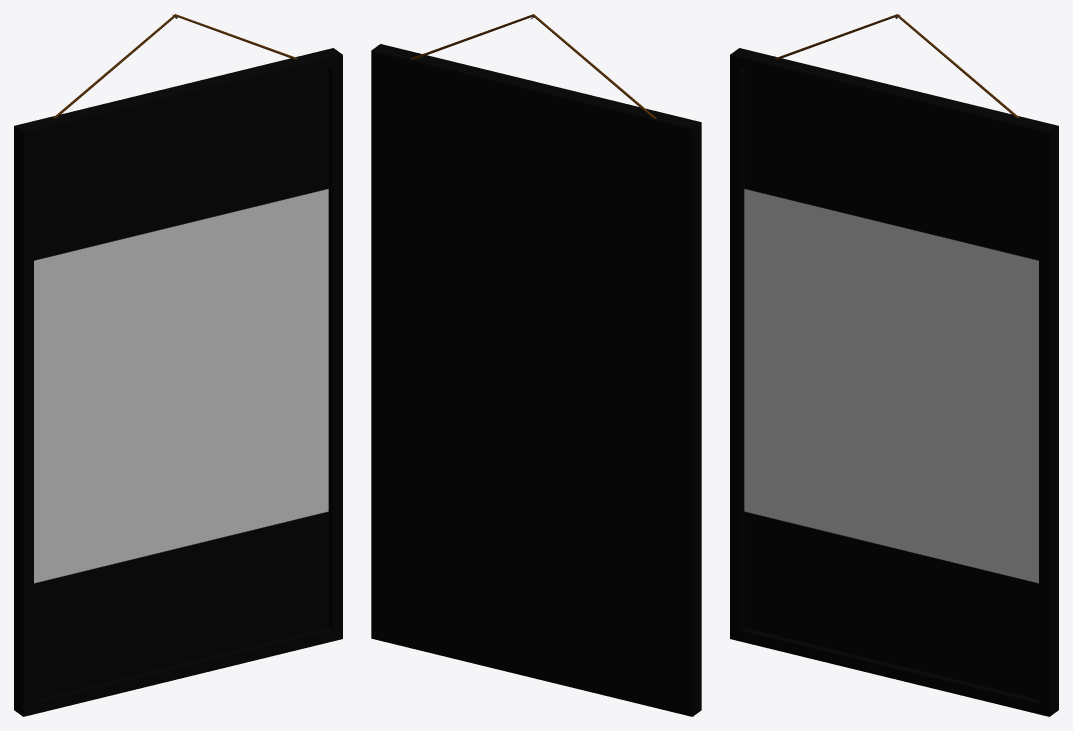
File: image2.fbx
3 renders of one model, left to right at view 1: azimuth 30°, elevation 25°; view 2: azimuth 150°, elevation 25°; view 3: azimuth 330°, elevation 25°, orthographic.
Visible parts, largest first — view 1: Cube.001, Plane.001; view 2: Cube.001, Plane.001; view 3: Cube.001, Plane.001.
Part boxes in pixels (box(x1,y1,x2,y2)): Cube.001: box(14, 48, 342, 716); Plane.001: box(53, 14, 297, 118); Cube.001: box(371, 44, 701, 716); Plane.001: box(410, 14, 656, 118); Cube.001: box(730, 48, 1058, 716); Plane.001: box(775, 14, 1019, 118).
Size of the model in its own units: 200 by 394 by 11.11.
Materials: 4 (1 with a texture image).
